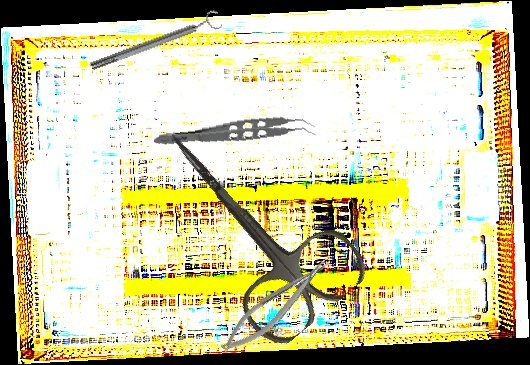Fixation Ring: (87, 8, 224, 76)
Iris Scissors: (124, 91, 375, 354)
Needle Holder: (213, 252, 340, 360)
Tissue Forceps: (152, 109, 317, 160)
